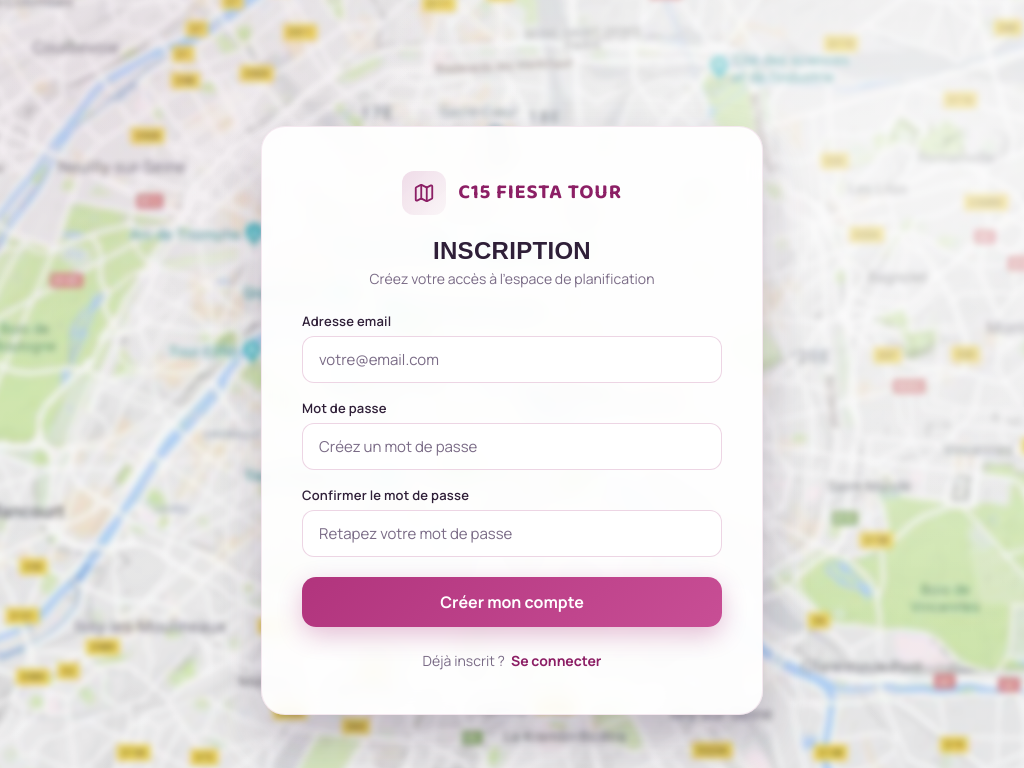
RegisterPage › affiche une erreur si le serveur renvoie une erreur
Type "john@example.com" into the field labelled "Adresse email" at (512, 359), box [302, 336, 722, 382]
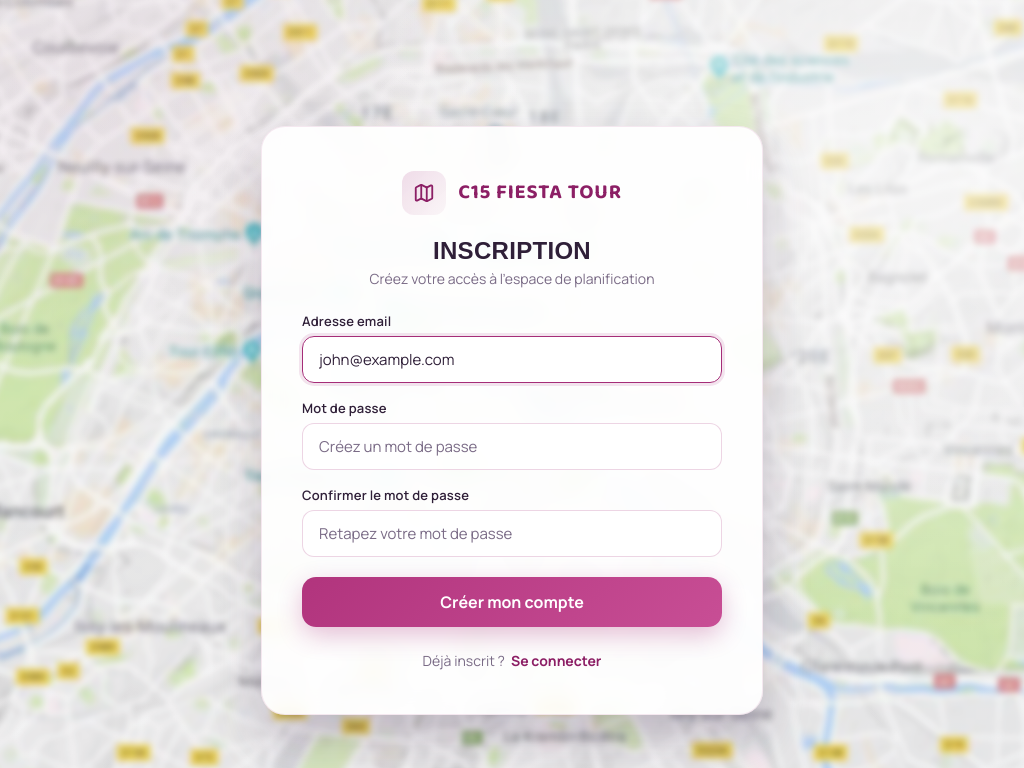
Type "Password1" into the password field labelled "Mot de passe" at (512, 446), box [302, 422, 722, 470]
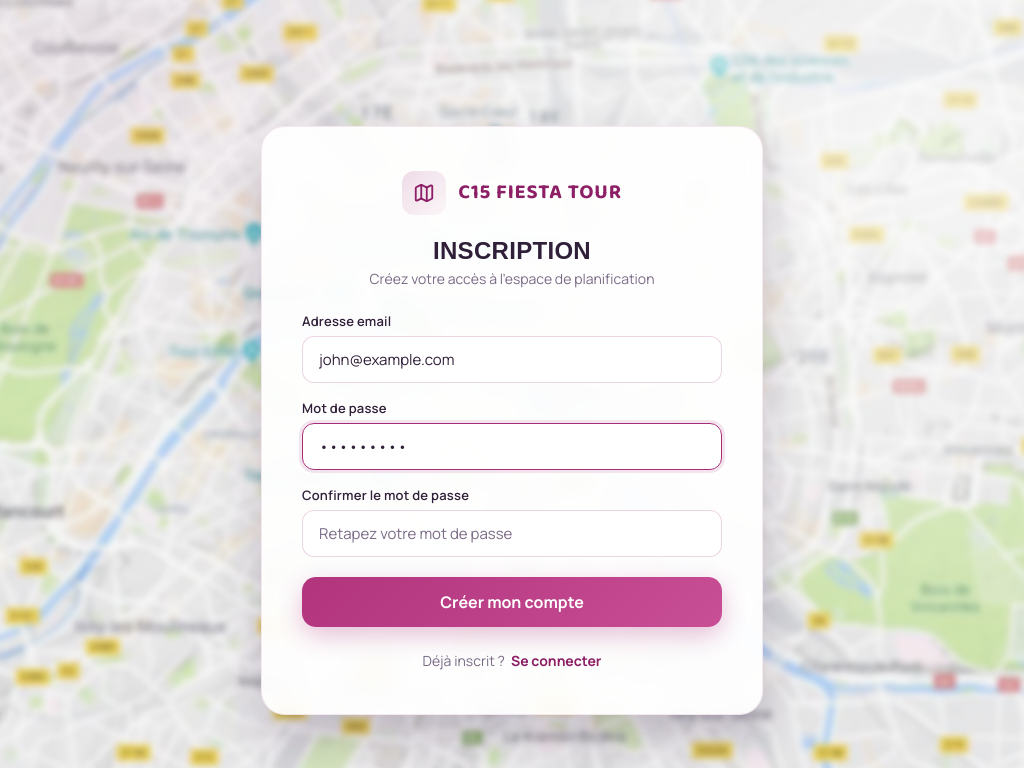
Type "Password1" into the password field labelled "Confirmer le mot de passe" at (512, 533), box [302, 510, 722, 556]
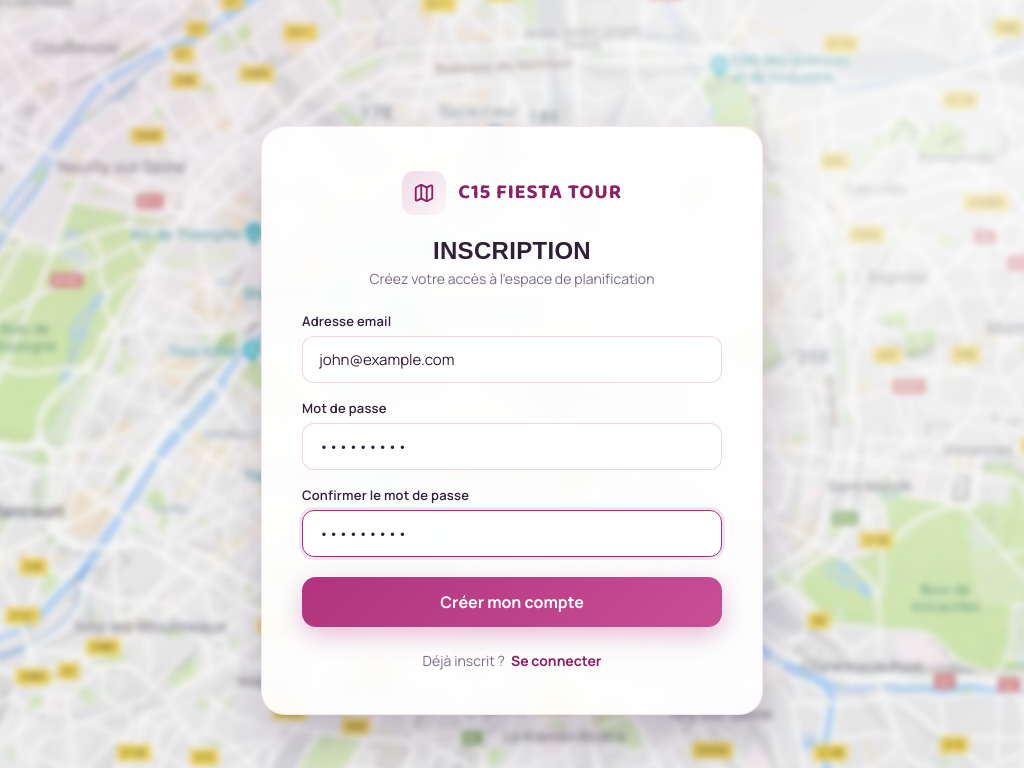
Click the button "Créer mon compte" at (512, 602), box [302, 576, 722, 626]
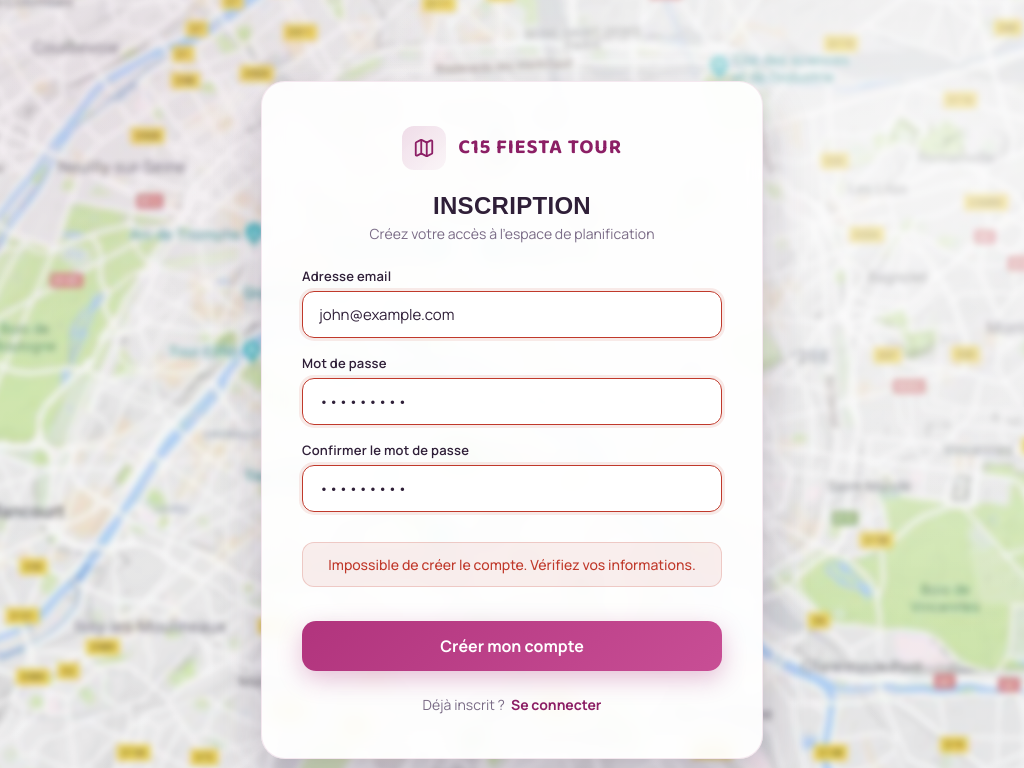
Expected: the text "Impossible de créer le compte. Vérifiez vos informations." is shown, [302, 542, 722, 587]
